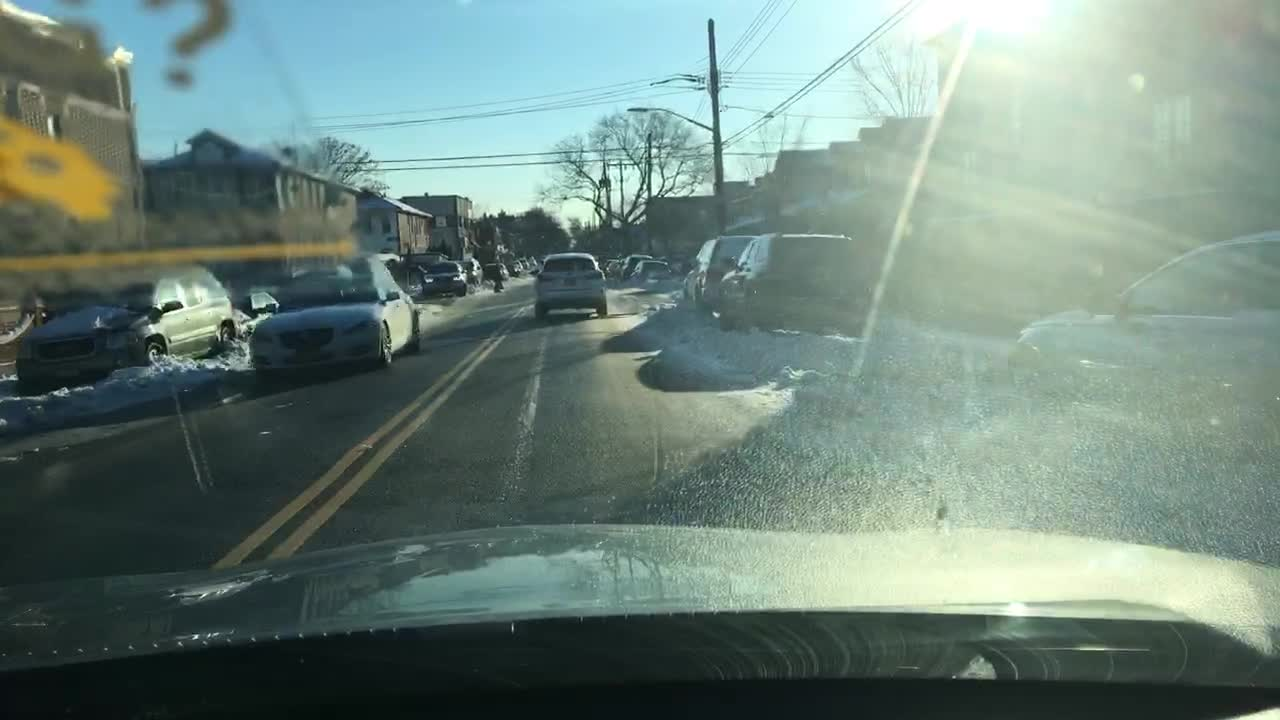car: (1011, 229, 1276, 432), (14, 262, 234, 386), (245, 262, 425, 374), (718, 229, 869, 331), (681, 235, 751, 314), (532, 252, 608, 315), (421, 262, 467, 298), (237, 288, 279, 318), (620, 254, 651, 280), (631, 264, 670, 279), (460, 257, 482, 283), (481, 262, 510, 281), (509, 259, 524, 277), (603, 259, 618, 275), (529, 257, 541, 273), (519, 259, 530, 274)
person: (489, 259, 504, 291)
